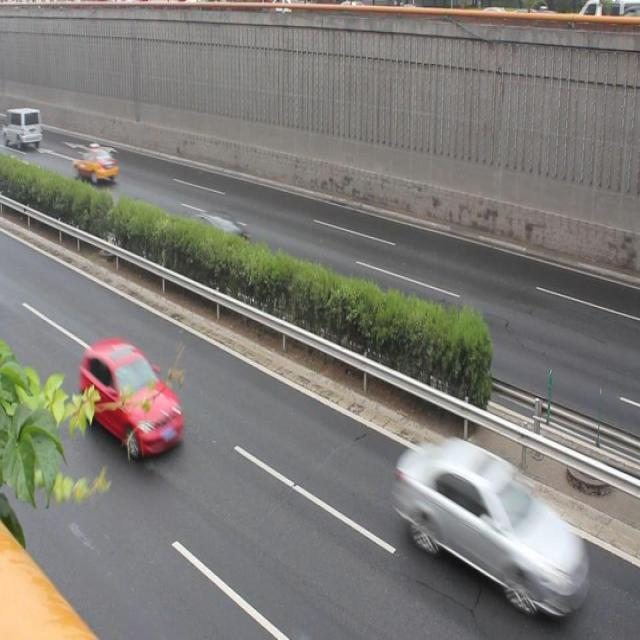car: (393, 429, 577, 603), (80, 336, 184, 464), (184, 206, 250, 267), (71, 140, 120, 192)
